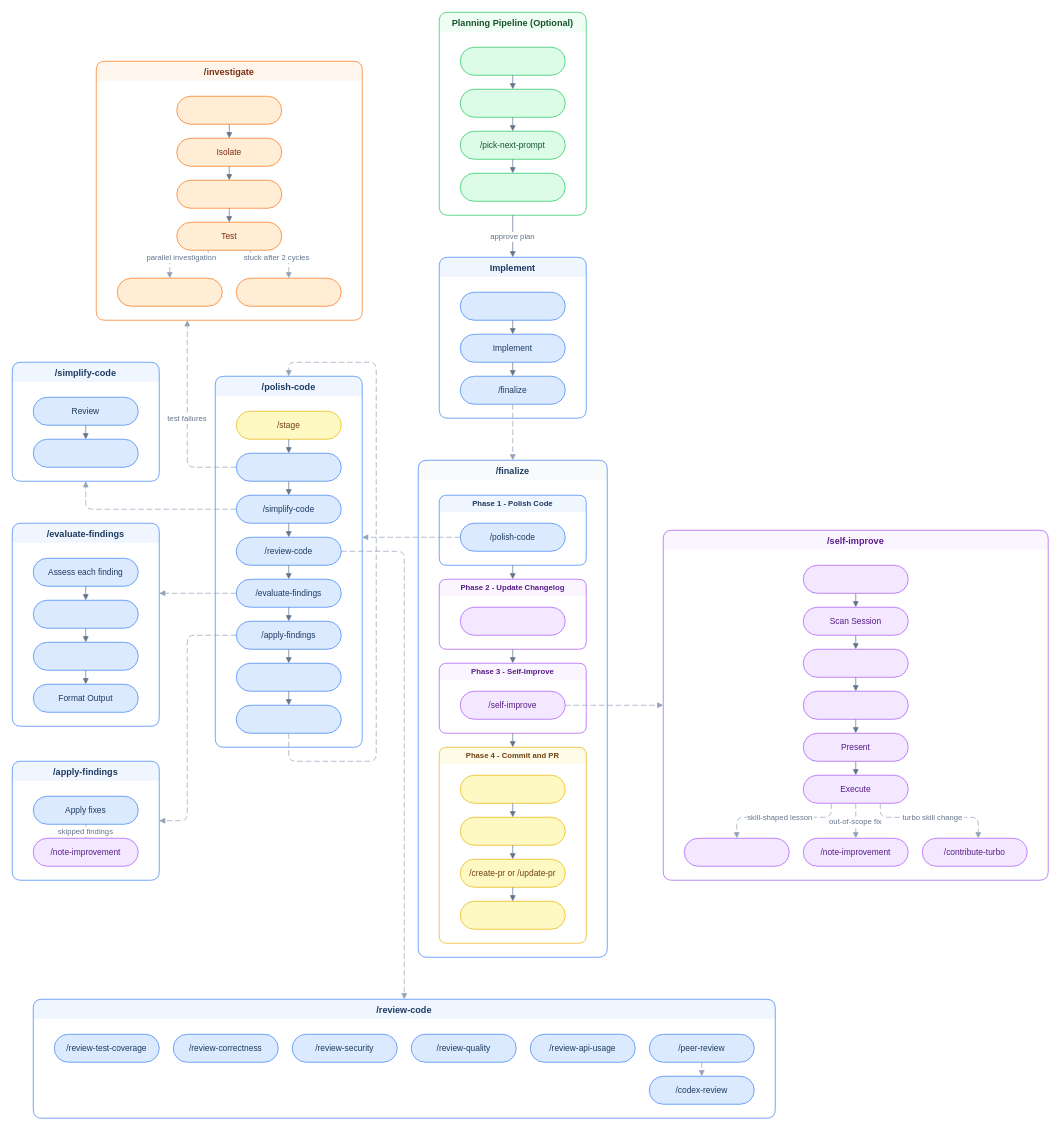
The diagram is 1061 pixels wide and 1131 high, and some of its shapes have lost their labels. Here are the shapes that lost their labels. From the top down, the centre of each, then its label:
the point at 512,61: /create-spec
the point at 229,110: Characterize
the point at 512,103: /create-prompt-plan
the point at 229,194: Hypothesize
the point at 512,187: /plan-style
the point at 169,292: /consult-codex
the point at 288,292: /consult-oracle
the point at 512,306: /code-style
the point at 85,453: Fix issues
the point at 288,467: Format, lint, test
the point at 855,579: Detect Context
the point at 85,614: Devil's Advocate
the point at 512,621: /update-changelog
the point at 85,656: Reconciliation
the point at 855,663: Filter
the point at 288,677: /smoke-test
the point at 288,719: Re-run if changed
the point at 855,705: Route
the point at 512,789: Branch if needed
the point at 512,831: /commit-staged
the point at 736,852: /create-skill
the point at 512,915: /resolve-pr-comments
